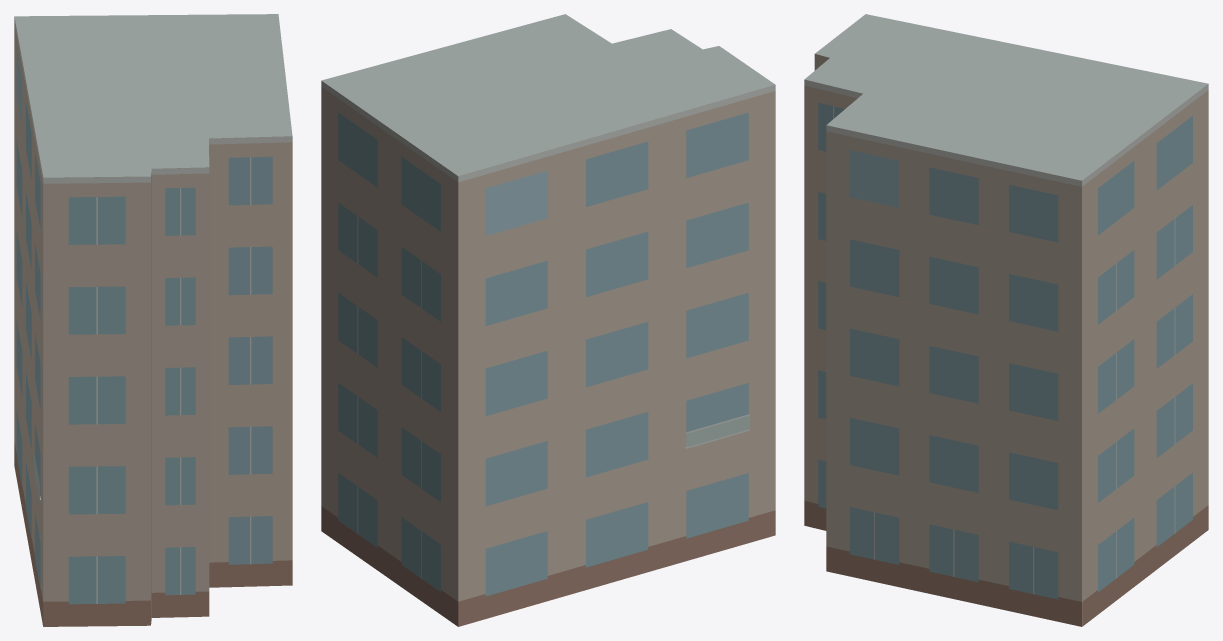
The model's file is survey-upis-32770142.glb.
3 views of the same model, side by side, from view 1: azimuth 30°, elevation 25°; view 2: azimuth 150°, elevation 25°; view 3: azimuth 270°, elevation 25° (orthographic).
Visible parts, largest first — view 1: survey-upis-32770142.tmp; view 2: survey-upis-32770142.tmp; view 3: survey-upis-32770142.tmp.
Part boxes in pixels (x1=…): survey-upis-32770142.tmp: x1=14, y1=14, x2=292, y2=626; survey-upis-32770142.tmp: x1=321, y1=14, x2=775, y2=626; survey-upis-32770142.tmp: x1=804, y1=14, x2=1208, y2=626.
Bounding box in the file's own units: 14.44 × 18 × 14.79.
